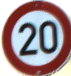20 km speed: (1, 1, 71, 75)
